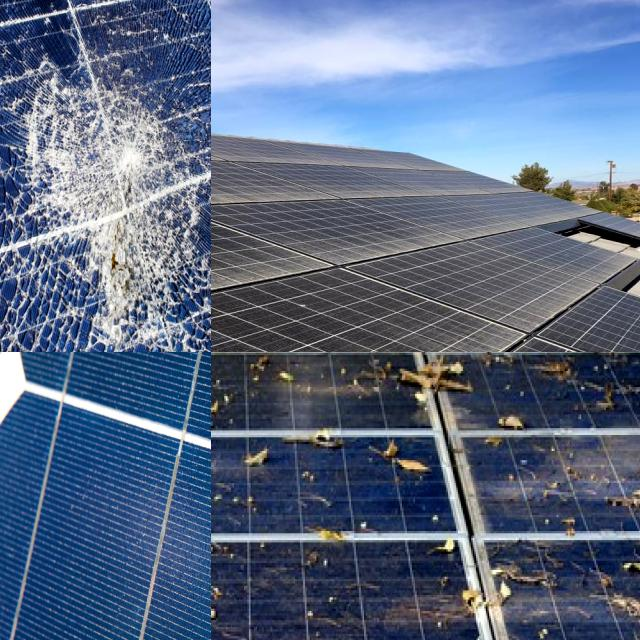crack: (0, 352, 211, 640)
dust: (453, 275, 606, 352), (211, 307, 413, 352)
hotspot: (17, 49, 193, 352)
